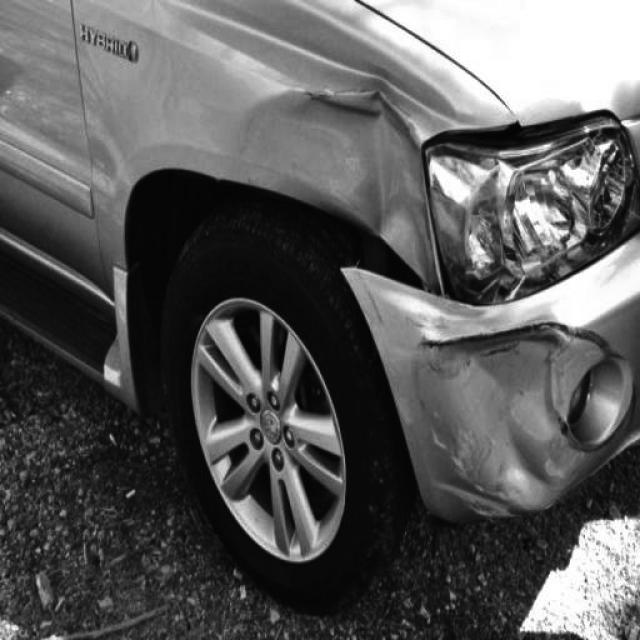car damage: (433, 105, 640, 312), (233, 89, 436, 278)
